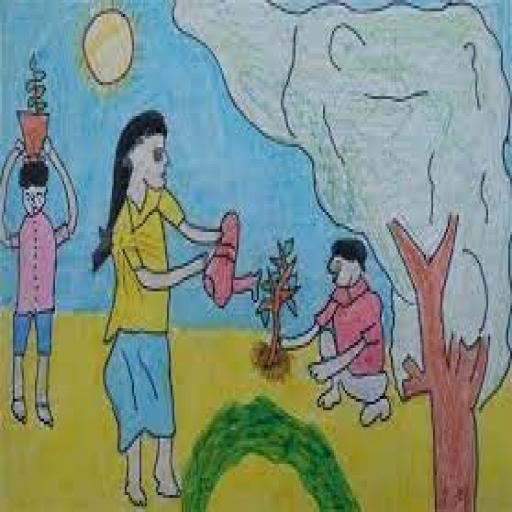person: (93, 106, 222, 509), (276, 228, 404, 437), (0, 134, 83, 442)
